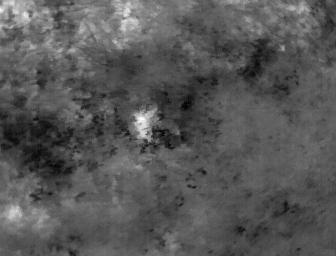landmine: (129, 103, 164, 143)
